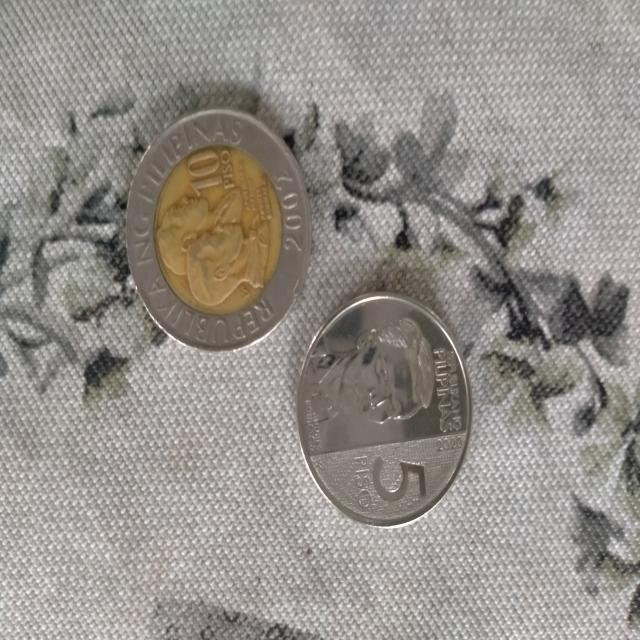10_Old_Front: (157, 137, 288, 318)
5_New_Front: (317, 325, 454, 499)
